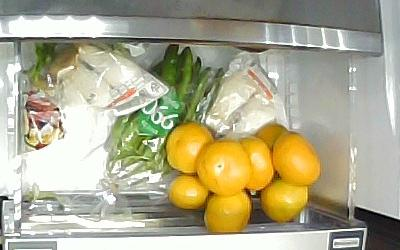tangerine: (198, 140, 252, 196), (272, 130, 323, 187), (164, 121, 214, 175), (259, 177, 310, 224), (205, 189, 252, 234), (239, 135, 275, 191), (167, 175, 209, 210), (255, 123, 288, 149)
